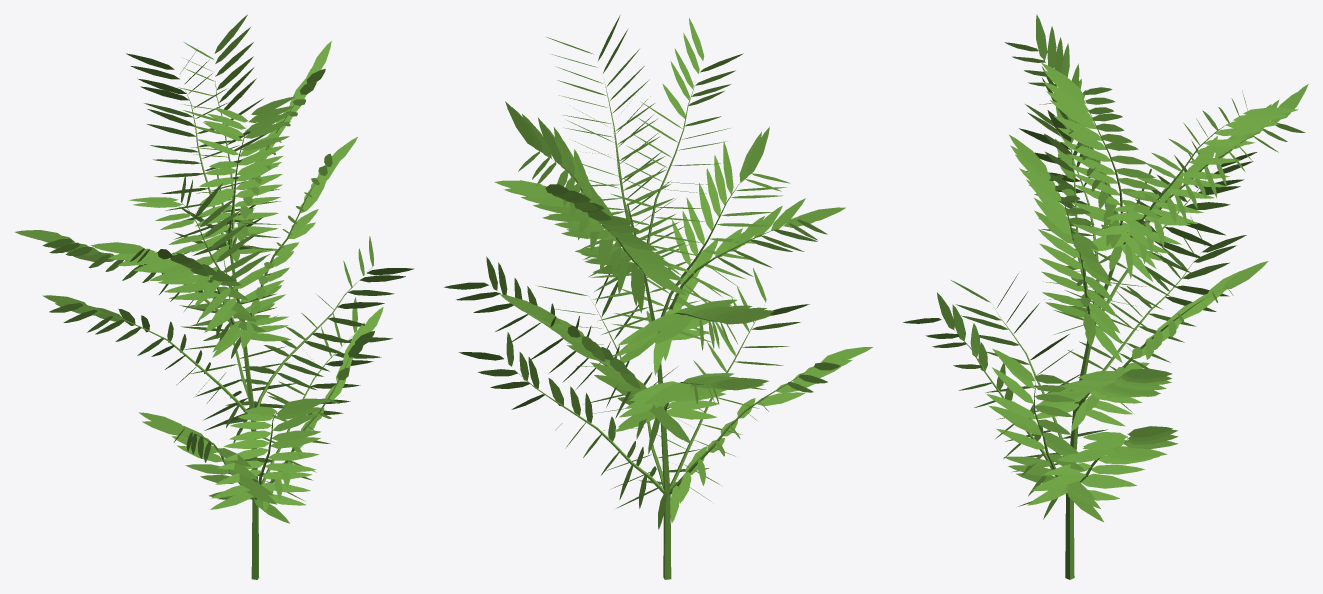
Rendered from royalTree.obj.
3 renders of one model, left to right at view 1: azimuth 30°, elevation 25°; view 2: azimuth 150°, elevation 25°; view 3: azimuth 270°, elevation 25°, orthographic. The views are drawn at different scales.
Visible parts, largest first — view 1: lvs_30; view 2: lvs_30; view 3: lvs_30.
Boxes of the visible parts, bbox=[...] form: lvs_30: bbox=[15, 14, 413, 579]; lvs_30: bbox=[444, 15, 872, 579]; lvs_30: bbox=[903, 14, 1308, 579].
Size of the model in its own units: 21.21 by 31.78 by 21.46.
